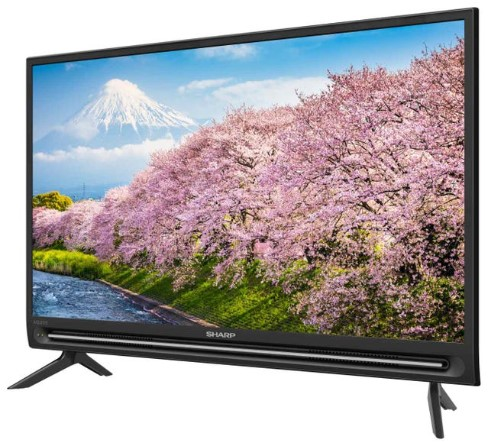tv: (10, 7, 487, 439)
